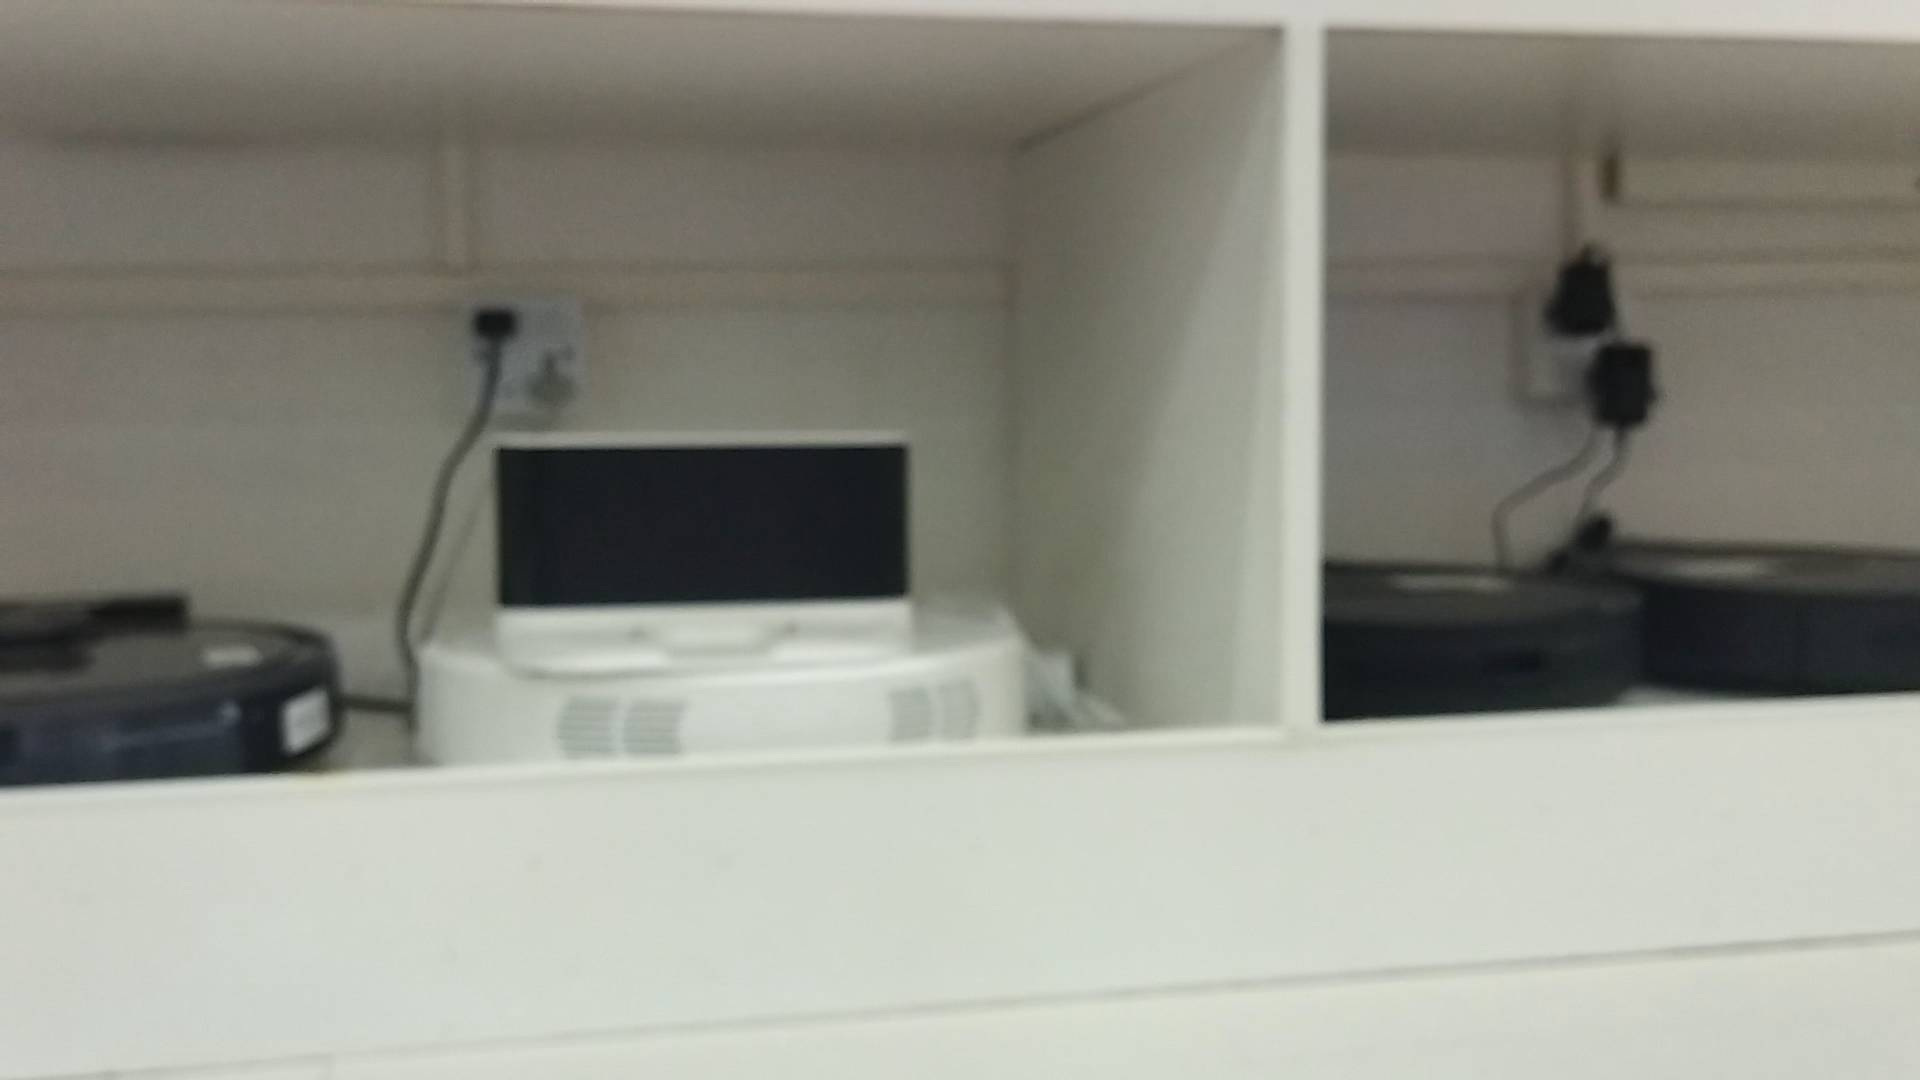recharge seat: (489, 419, 915, 676)
